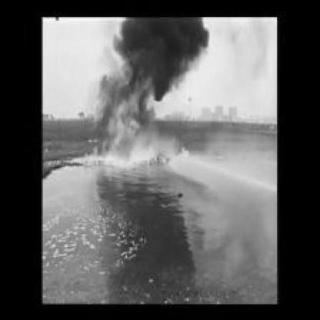Fire: (82, 73, 178, 167)
Smoke: (106, 17, 218, 97)
